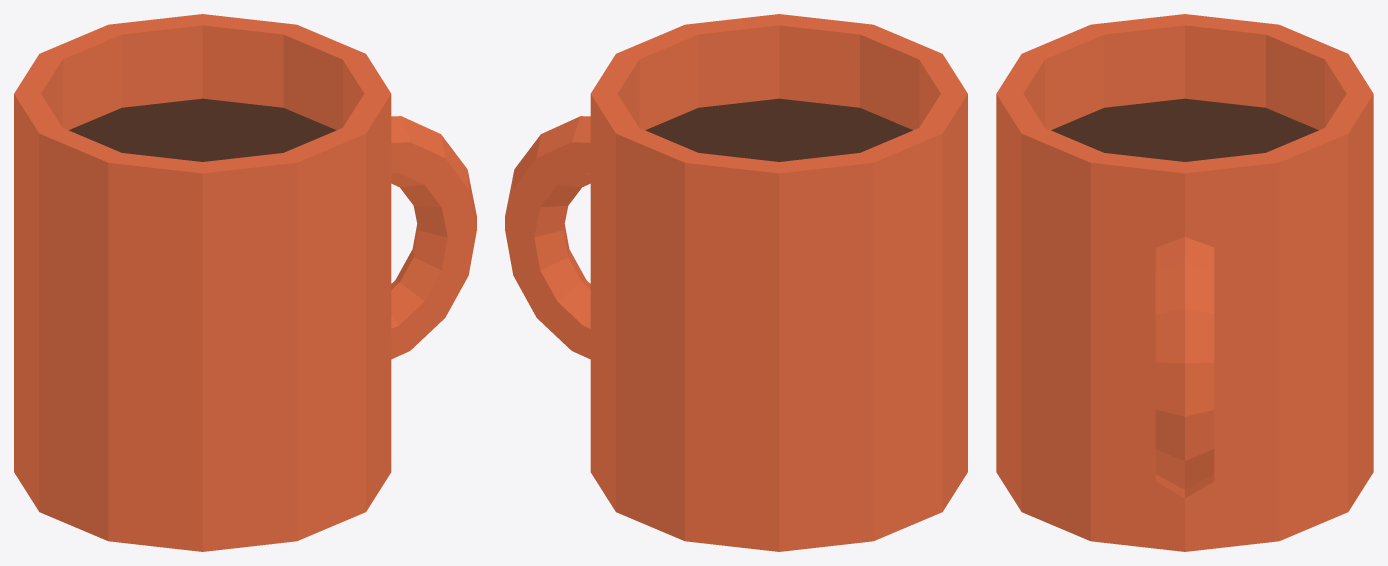
File: mug.glb
The picture shows the model from 3 angles, left to right: view 1: azimuth 30°, elevation 25°; view 2: azimuth 150°, elevation 25°; view 3: azimuth 270°, elevation 25°; orthographic projection.
Visible parts, largest first — view 1: cup, handle, coffee; view 2: cup, handle, coffee; view 3: cup, handle, coffee.
Boxes of the visible parts, bbox=[...] form: cup: bbox=[14, 14, 391, 551]; handle: bbox=[391, 116, 476, 359]; coffee: bbox=[69, 98, 336, 161]; cup: bbox=[590, 14, 967, 551]; handle: bbox=[505, 116, 590, 359]; coffee: bbox=[645, 98, 912, 161]; cup: bbox=[996, 14, 1373, 551]; handle: bbox=[1155, 237, 1214, 497]; coffee: bbox=[1051, 98, 1318, 161].
Bounding box in the file's own units: 0.075 × 0.062 × 0.056.
